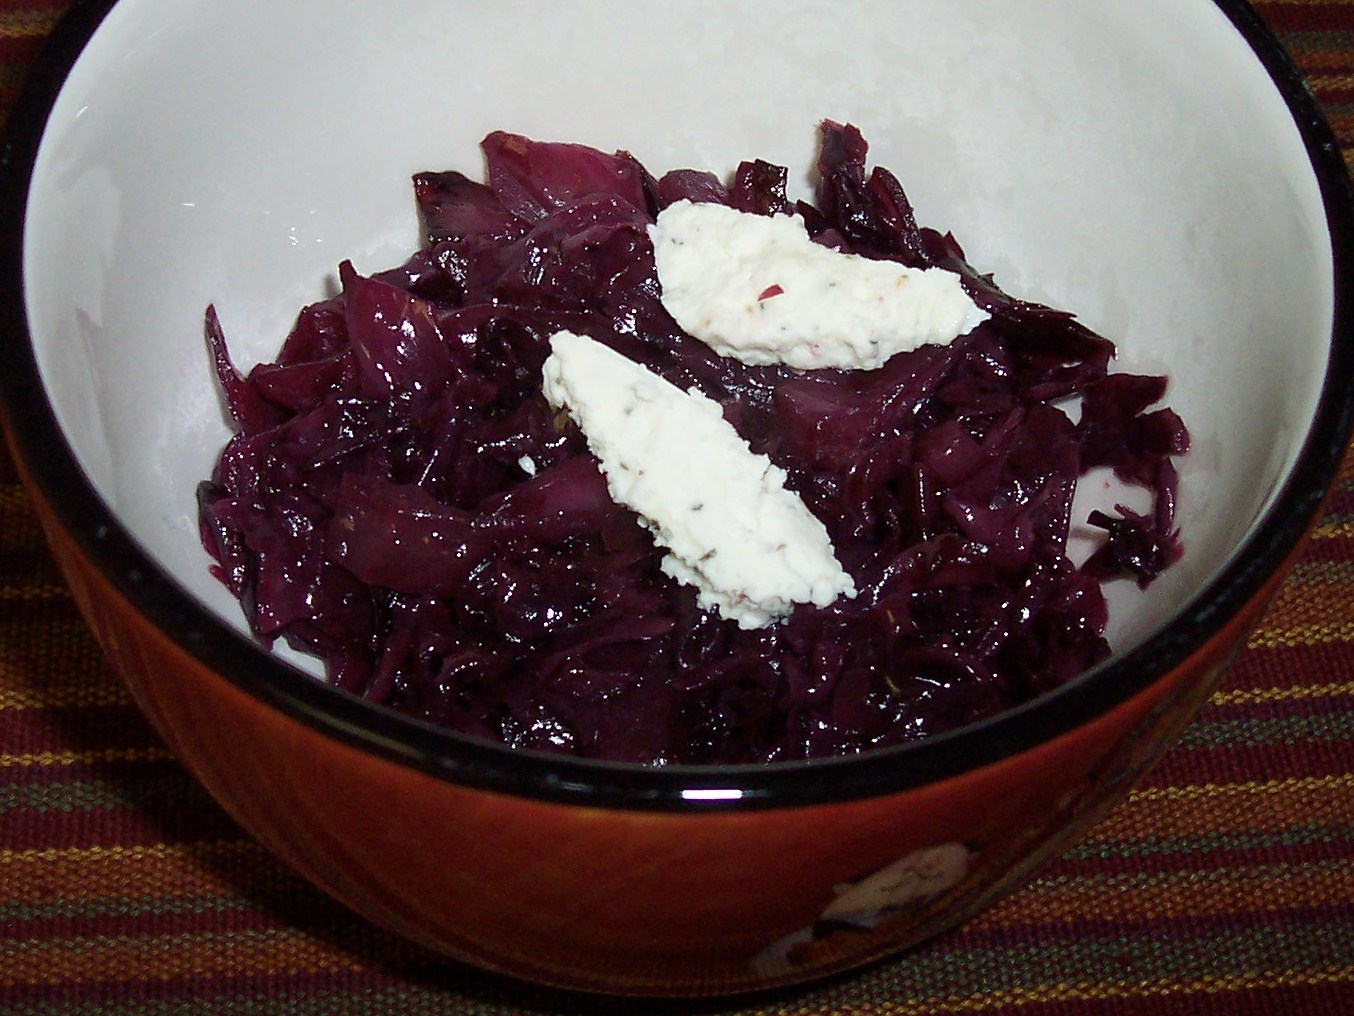cabbage: (190, 116, 1196, 774)
